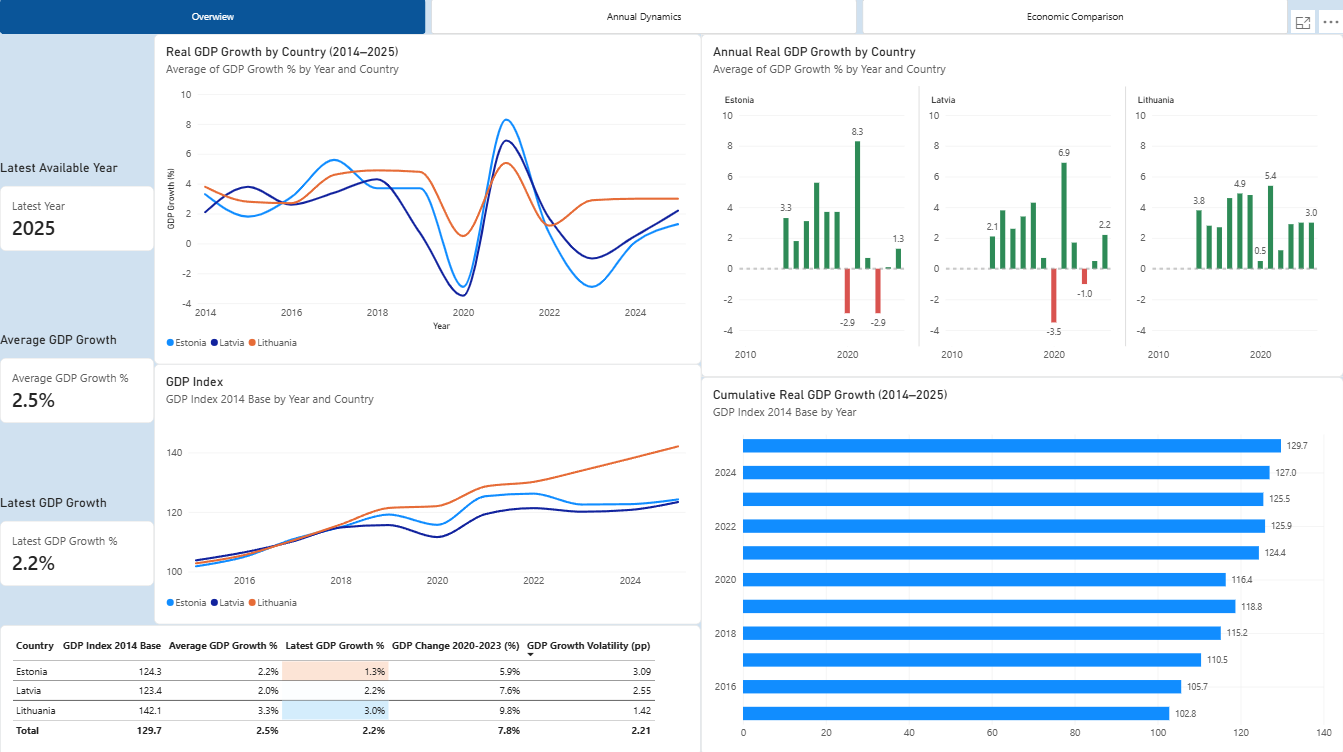

This screenshot's page, from the dashboard's own definition file:
{"tool":"powerbi","page":{"name":"Overwiew","canvas":[1920,1080],"ordinal":0},"visuals":[{"type":"lineChart","title":"Real GDP Growth by Country (2014–2025)","fields":{"Category":["GDP.Year"],"Series":["GDP.Country"],"Y":["Avg(GDP.GDP Growth %)"]},"box":[220,50,781.7,471.7],"z":0},{"type":"cardVisual","title":"Latest Available Year","fields":{"Data":["GDP.Latest Year"]},"box":[0,230,220,130],"z":1000},{"type":"cardVisual","title":"Latest GDP Growth","fields":{"Data":["GDP.Latest GDP Growth %"]},"box":[0,708.3,220,130],"z":2000},{"type":"cardVisual","title":"Average GDP Growth","fields":{"Data":["GDP.Average GDP Growth %"]},"box":[0,475,220,130],"z":3000},{"type":"lineChart","title":"GDP Index","fields":{"Category":["GDP.Year"],"Series":["GDP.Country"],"Y":["GDP.GDP Index 2014 Base"]},"box":[220,521.7,781.7,371.7],"z":5000},{"type":"clusteredBarChart","title":"Cumulative Real GDP Growth (2014–2025)","fields":{"Category":["GDP.Year"],"Y":["GDP.GDP Index 2014 Base"]},"box":[1001.7,540,918.3,540],"z":6000},{"type":"tableEx","fields":{"Values":["GDP.Country","GDP.GDP Index 2014 Base","GDP.Average GDP Growth %","GDP.Latest GDP Growth %","GDP.GDP Change 2020-2023 (%)","GDP.GDP Growth Volatility (pp)"]},"box":[0,893.8,1001.4,187],"z":7000},{"type":"clusteredColumnChart","title":"Annual Real GDP Growth by Country","fields":{"Category":["GDP.Year"],"Rows":["GDP.Country"],"Y":["Avg(GDP.GDP Growth %)"]},"box":[1001.7,50,918.3,490],"z":8000},{"type":"pageNavigator","box":[0,0,1840,50],"z":8001}]}

Visuals, with their boxes on the page's 1920x1080 design canvas (x1, y1, x2, y2). These are canvas units, not pixel positions in the 1343x752 screenshot, which may show the page scaled, cropped or inside an application window:
"Real GDP Growth by Country (2014–2025)" lineChart: (220, 50, 1002, 522)
"Latest Available Year" cardVisual: (0, 230, 220, 360)
"Latest GDP Growth" cardVisual: (0, 708, 220, 838)
"Average GDP Growth" cardVisual: (0, 475, 220, 605)
"GDP Index" lineChart: (220, 522, 1002, 893)
"Cumulative Real GDP Growth (2014–2025)" clusteredBarChart: (1002, 540, 1920, 1080)
tableEx - GDP.Country x GDP.GDP Index 2014 Base: (0, 894, 1001, 1081)
"Annual Real GDP Growth by Country" clusteredColumnChart: (1002, 50, 1920, 540)
pageNavigator: (0, 0, 1840, 50)
